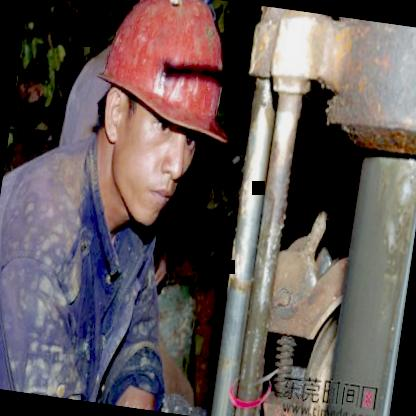helmet: (64, 0, 251, 255)
